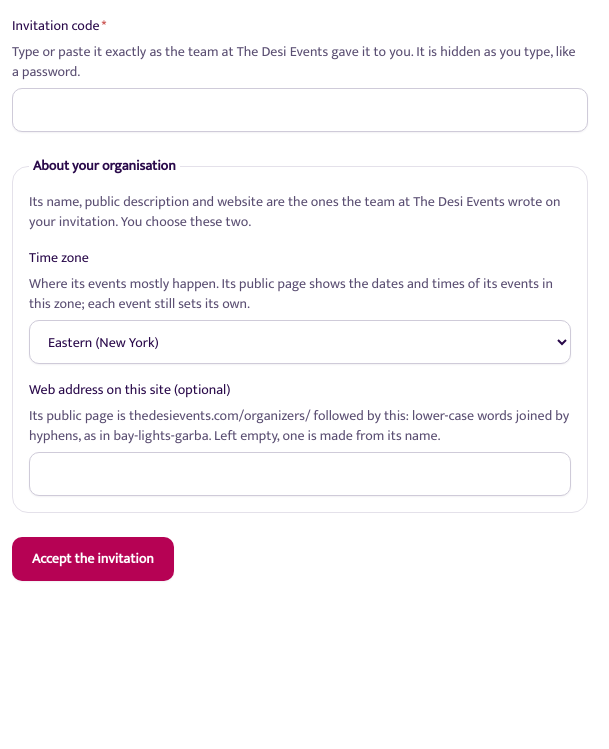
Test: the accept form › says the code is still good when two-step sign-in has to come first
Step 1. Type "Pq7_wE0-rT3yU6iO9pA2sD5fG8hJ1kL4zX7cV0bN3m" into the password field labelled "Invitation code*" → (300, 110), box [12,88,588,132]
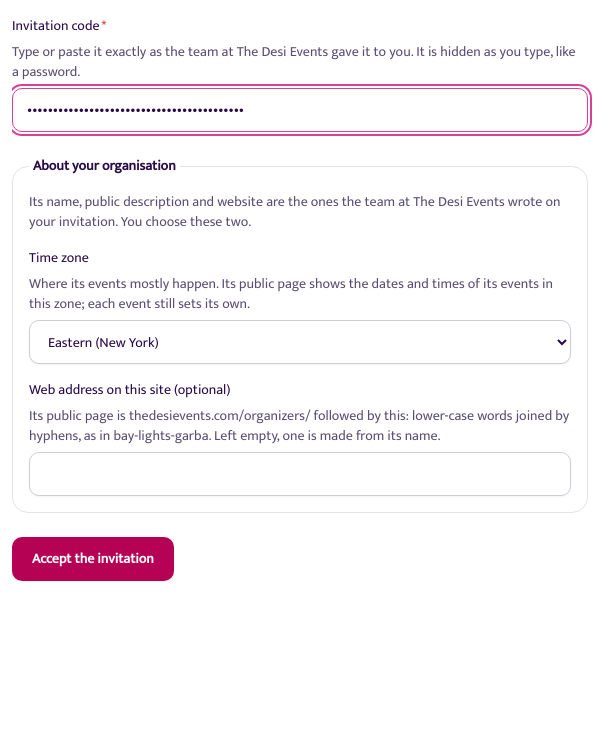
Step 2. Click the button "Accept the invitation" → (93, 559), box [12,537,174,581]
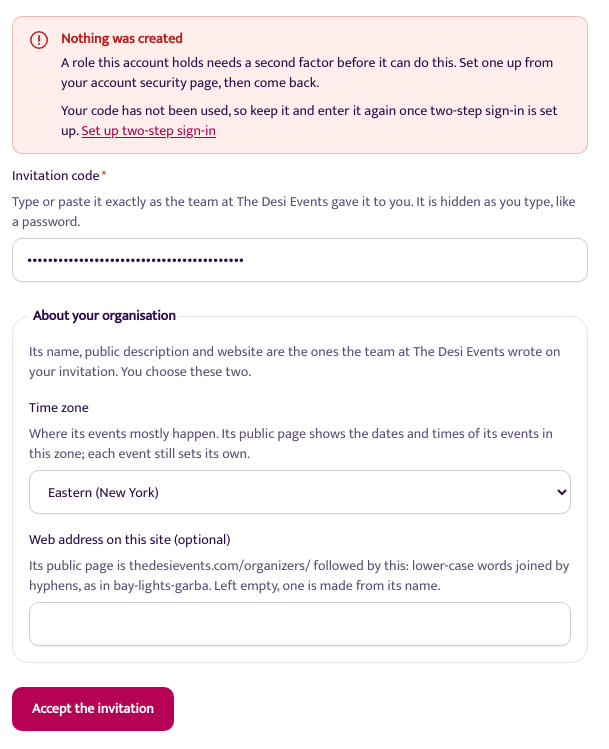
Expected: the text "Your code has not been used" is shown, [61,99,558,142]
